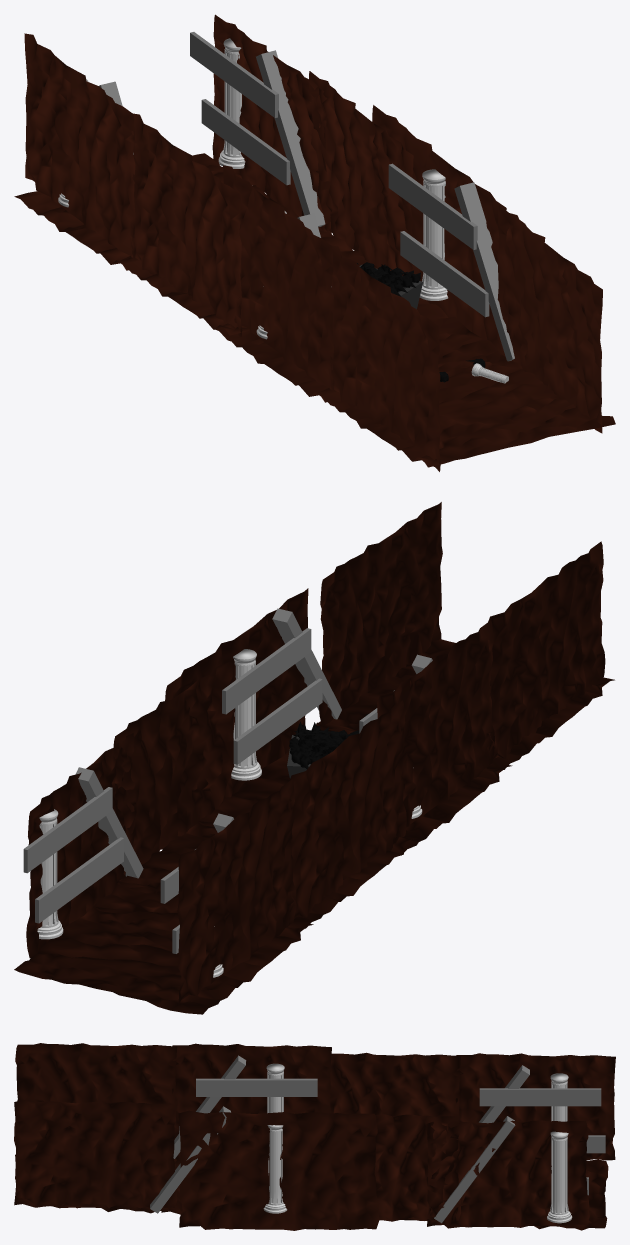
The model's file is Mina.fbx.
3 views of the same model, one above another, from view 1: azimuth 30°, elevation 25°; view 2: azimuth 150°, elevation 25°; view 3: azimuth 270°, elevation 25° (orthographic). The views are drawn at different scales.
Visible parts, largest first — view 1: coal; view 2: coal; view 3: coal.
Part boxes in pixels (x1,y1,x2,y2): coal: [14, 14, 615, 471]; coal: [14, 502, 614, 1014]; coal: [14, 1043, 615, 1230].
Bounding box in the file's own units: 1031 × 838 × 3639.
